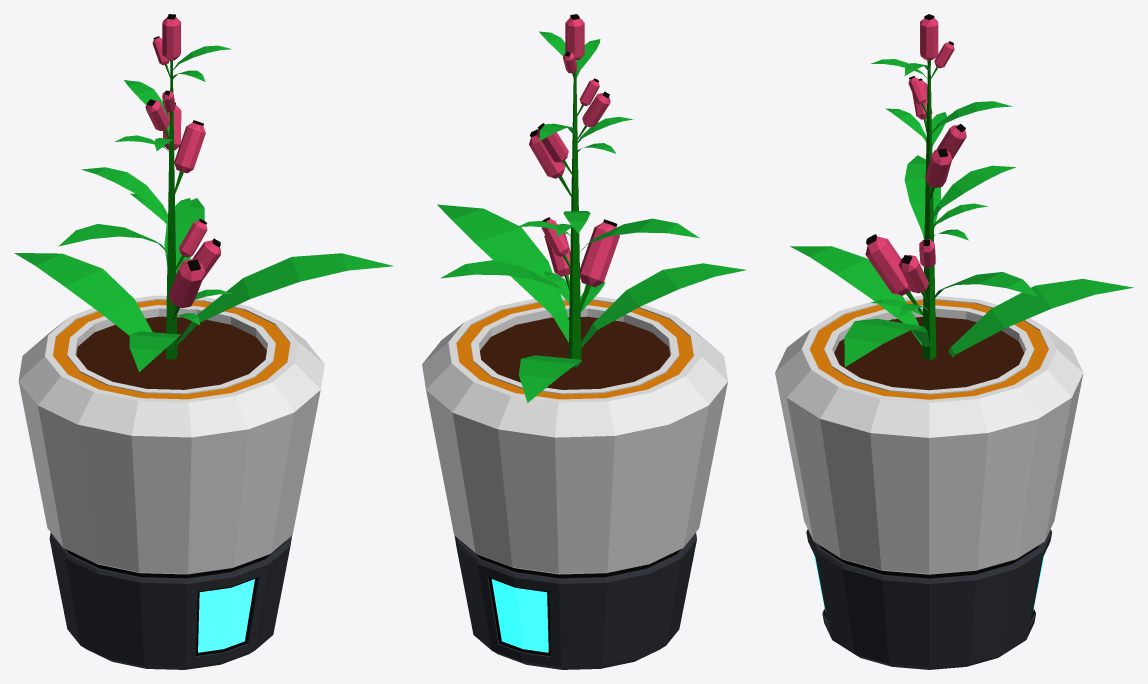
File: SM_Botanical_DeskPlant_Small.fbx
3 views of the same model, side by side, from view 1: azimuth 30°, elevation 25°; view 2: azimuth 150°, elevation 25°; view 3: azimuth 270°, elevation 25° (orthographic).
Visible parts, largest first — view 1: SM_Botanical_DeskPlant_Small; view 2: SM_Botanical_DeskPlant_Small; view 3: SM_Botanical_DeskPlant_Small.
Part boxes in pixels (x1,y1,x2,y2): SM_Botanical_DeskPlant_Small: (14, 14, 393, 669); SM_Botanical_DeskPlant_Small: (422, 14, 746, 669); SM_Botanical_DeskPlant_Small: (775, 14, 1133, 669).
Size of the model in its own units: 17.61 by 32.87 by 17.45.
